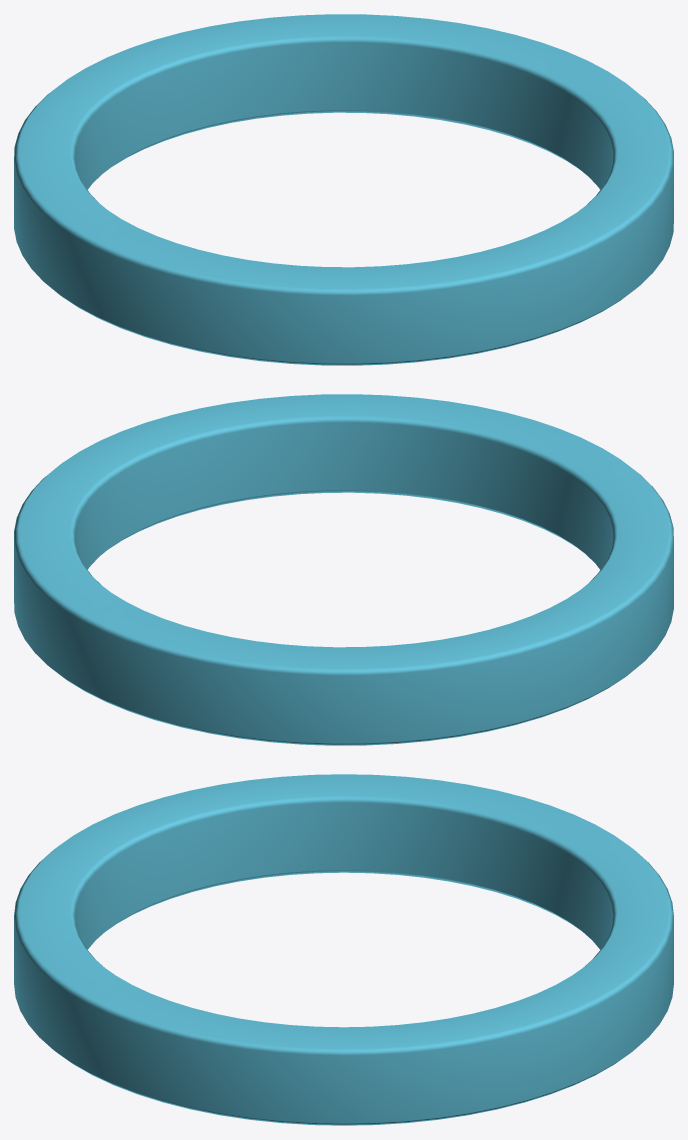
The picture shows the model from 3 angles, top to bottom: view 1: azimuth 30°, elevation 25°; view 2: azimuth 150°, elevation 25°; view 3: azimuth 270°, elevation 25°; orthographic projection.
Visible parts, largest first — view 1: seal_body; view 2: seal_body; view 3: seal_body.
Boxes of the visible parts, bbox=[...] form: seal_body: bbox=[14, 14, 673, 365]; seal_body: bbox=[14, 394, 673, 745]; seal_body: bbox=[14, 774, 673, 1125].
Bounding box in the file's own units: 0.07 × 0.009 × 0.07.
